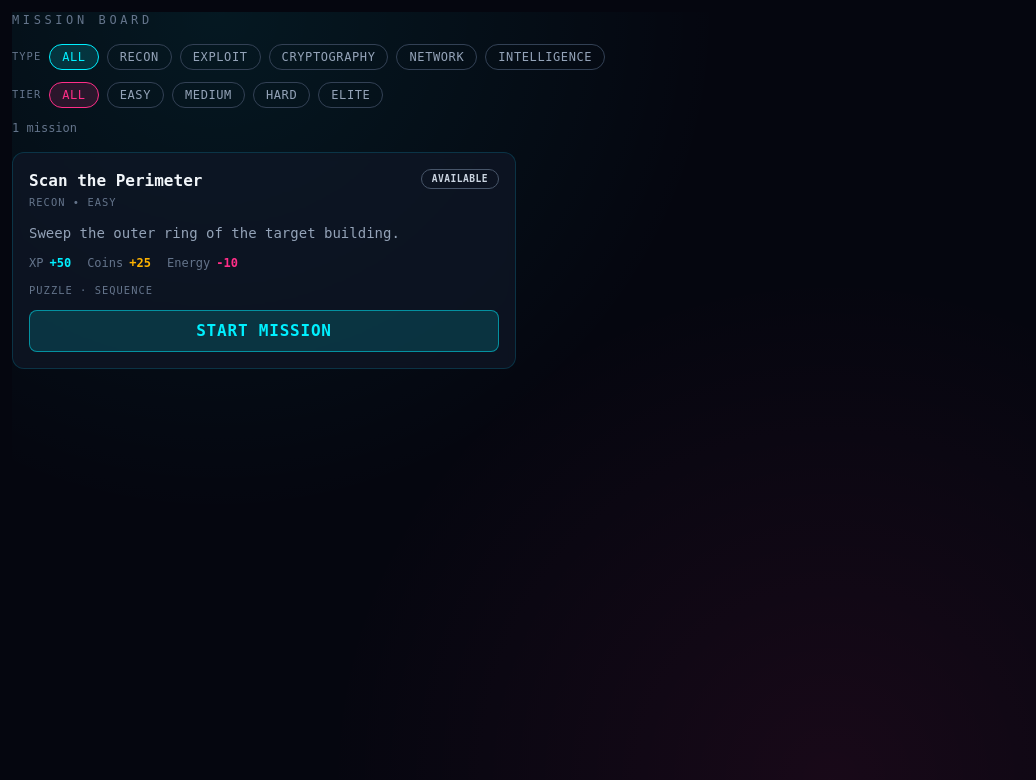
Test: MissionBoard › surfaces a server error when a mission cannot be started
The width and height of the screenshot is (1036, 780).
Expected: the heading "Scan the Perimeter" is shown, [29,169,202,193]
Click the button "Start mission" at (264, 331), box [29,310,499,352]
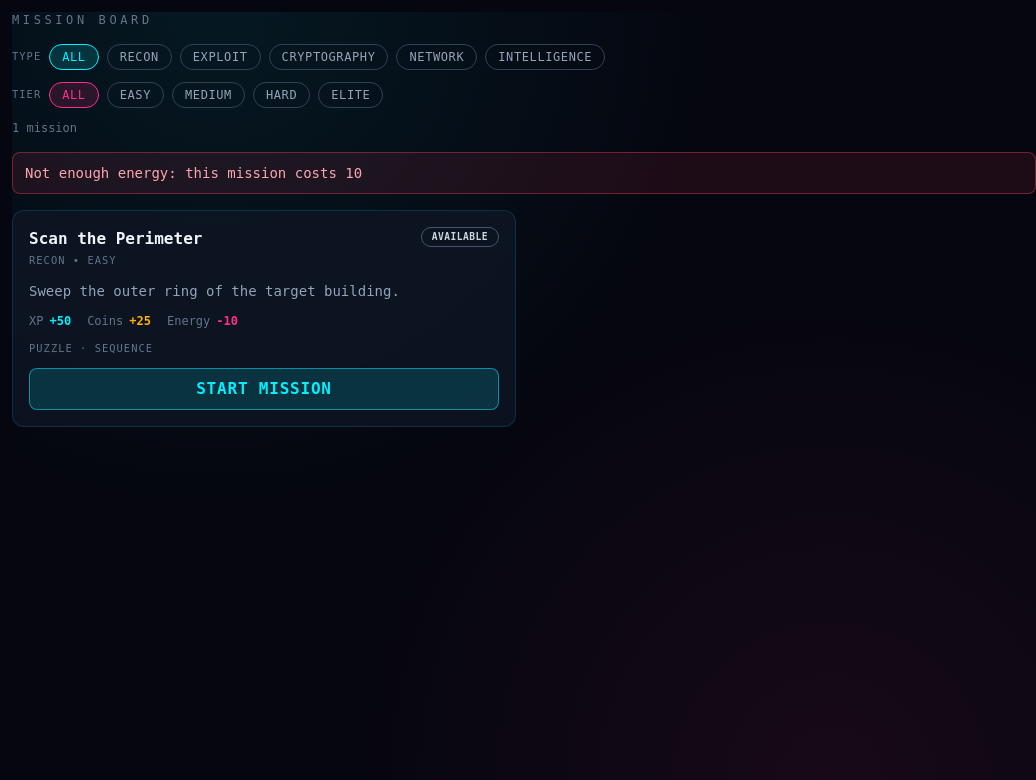
Expected: the text "Not enough energy: this mission costs 10" is shown, [12,152,1035,194]
